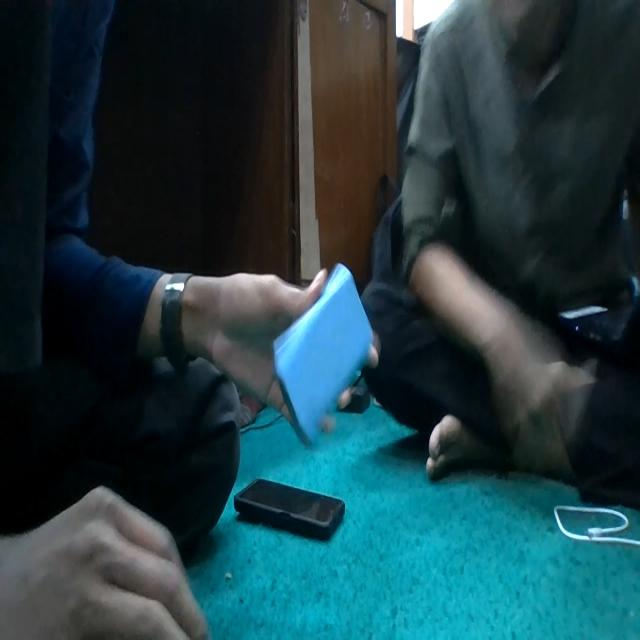Powerbank: (274, 263, 372, 444)
